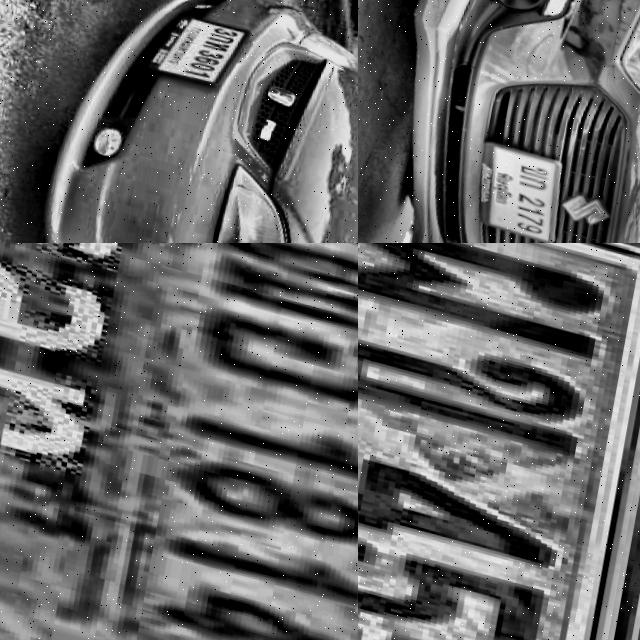license-plate: (0, 243, 358, 640), (358, 243, 640, 640), (136, 0, 253, 92), (466, 134, 566, 241)
